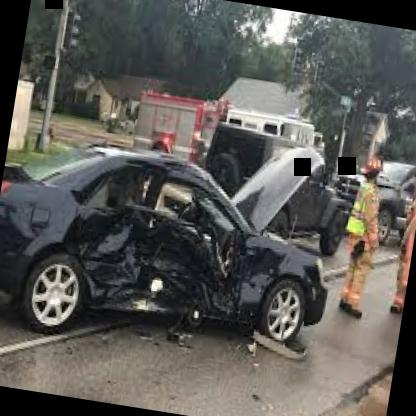accident: (0, 92, 365, 392)
